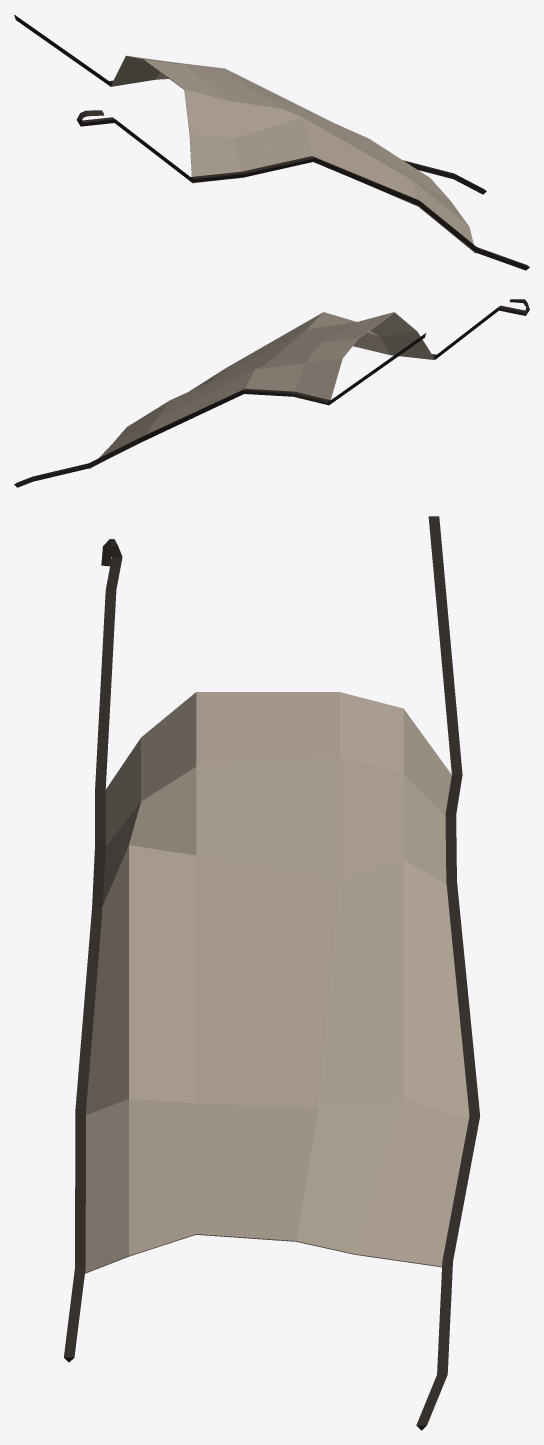
File: Shelter_1.fbx
3 renders of one model, top to bottom at view 1: azimuth 30°, elevation 25°; view 2: azimuth 150°, elevation 25°; view 3: azimuth 270°, elevation 25°, orthographic. The views are drawn at different scales.
Parts seen in each view (by area): view 1: Shelter_1; view 2: Shelter_1; view 3: Shelter_1.
Boxes of the visible parts, x1,y1,x2,y2 form: Shelter_1: (14,14,529,270); Shelter_1: (14,299,529,487); Shelter_1: (64,516,479,1430).
Bounding box in the file's own units: 12.28 × 6.87 × 5.05.
